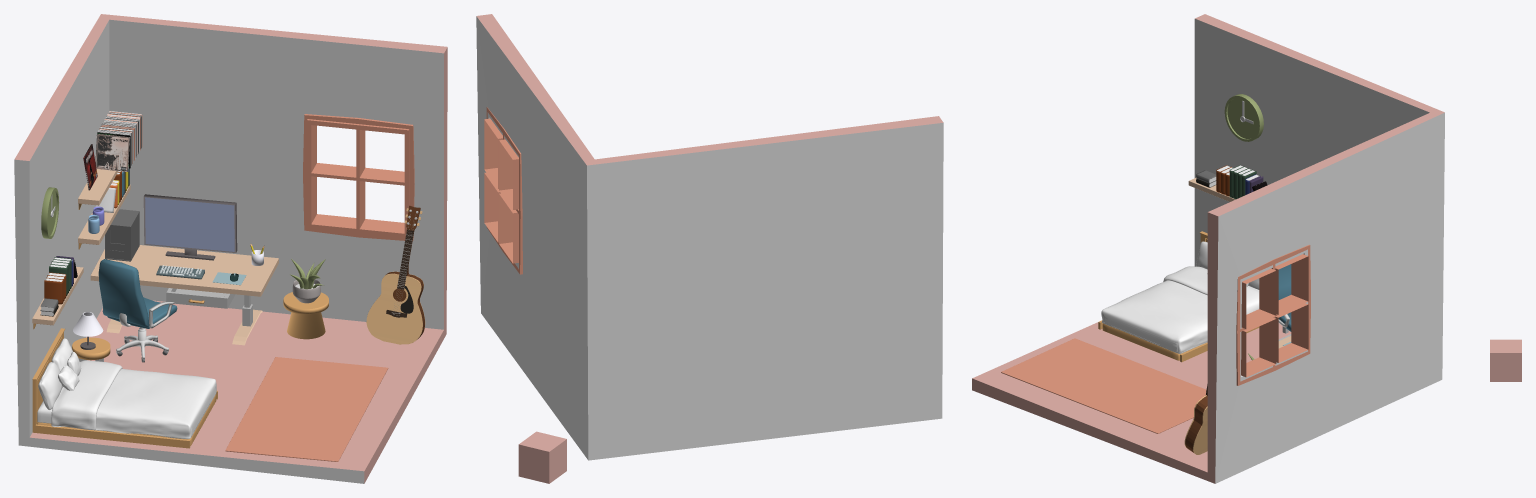
The model's file is Room.glb.
The picture shows the model from 3 angles, left to right: view 1: azimuth 30°, elevation 25°; view 2: azimuth 150°, elevation 25°; view 3: azimuth 270°, elevation 25°; orthographic projection. The views are drawn at different scales.
Parts seen in each view (by area): view 1: body, othersTwo, floorItems, shelfs, table, computer, chair, tableItems, others; view 2: body, Cubo; view 3: body, othersTwo, floorItems, shelfs, Cubo, chair.
Part boxes in pixels (box(x1,y1,x2,y2)): body: box(14, 14, 447, 483); othersTwo: box(32, 187, 425, 448); floorItems: box(72, 292, 388, 461); shelfs: box(32, 111, 142, 329); table: box(90, 245, 278, 345); computer: box(143, 194, 237, 260); chair: box(98, 259, 177, 362); tableItems: box(105, 209, 264, 285); others: box(73, 259, 325, 349); body: box(476, 14, 943, 460); Cubo: box(518, 431, 566, 483); body: box(972, 14, 1444, 483); othersTwo: box(1098, 94, 1263, 454); floorItems: box(1001, 326, 1288, 433); shelfs: box(1188, 165, 1267, 201); Cubo: box(1490, 339, 1521, 381); chair: box(1278, 264, 1291, 331).
Bounding box in the file's own units: 26.55 × 16.65 × 30.46.
49 materials, 3 textured.
